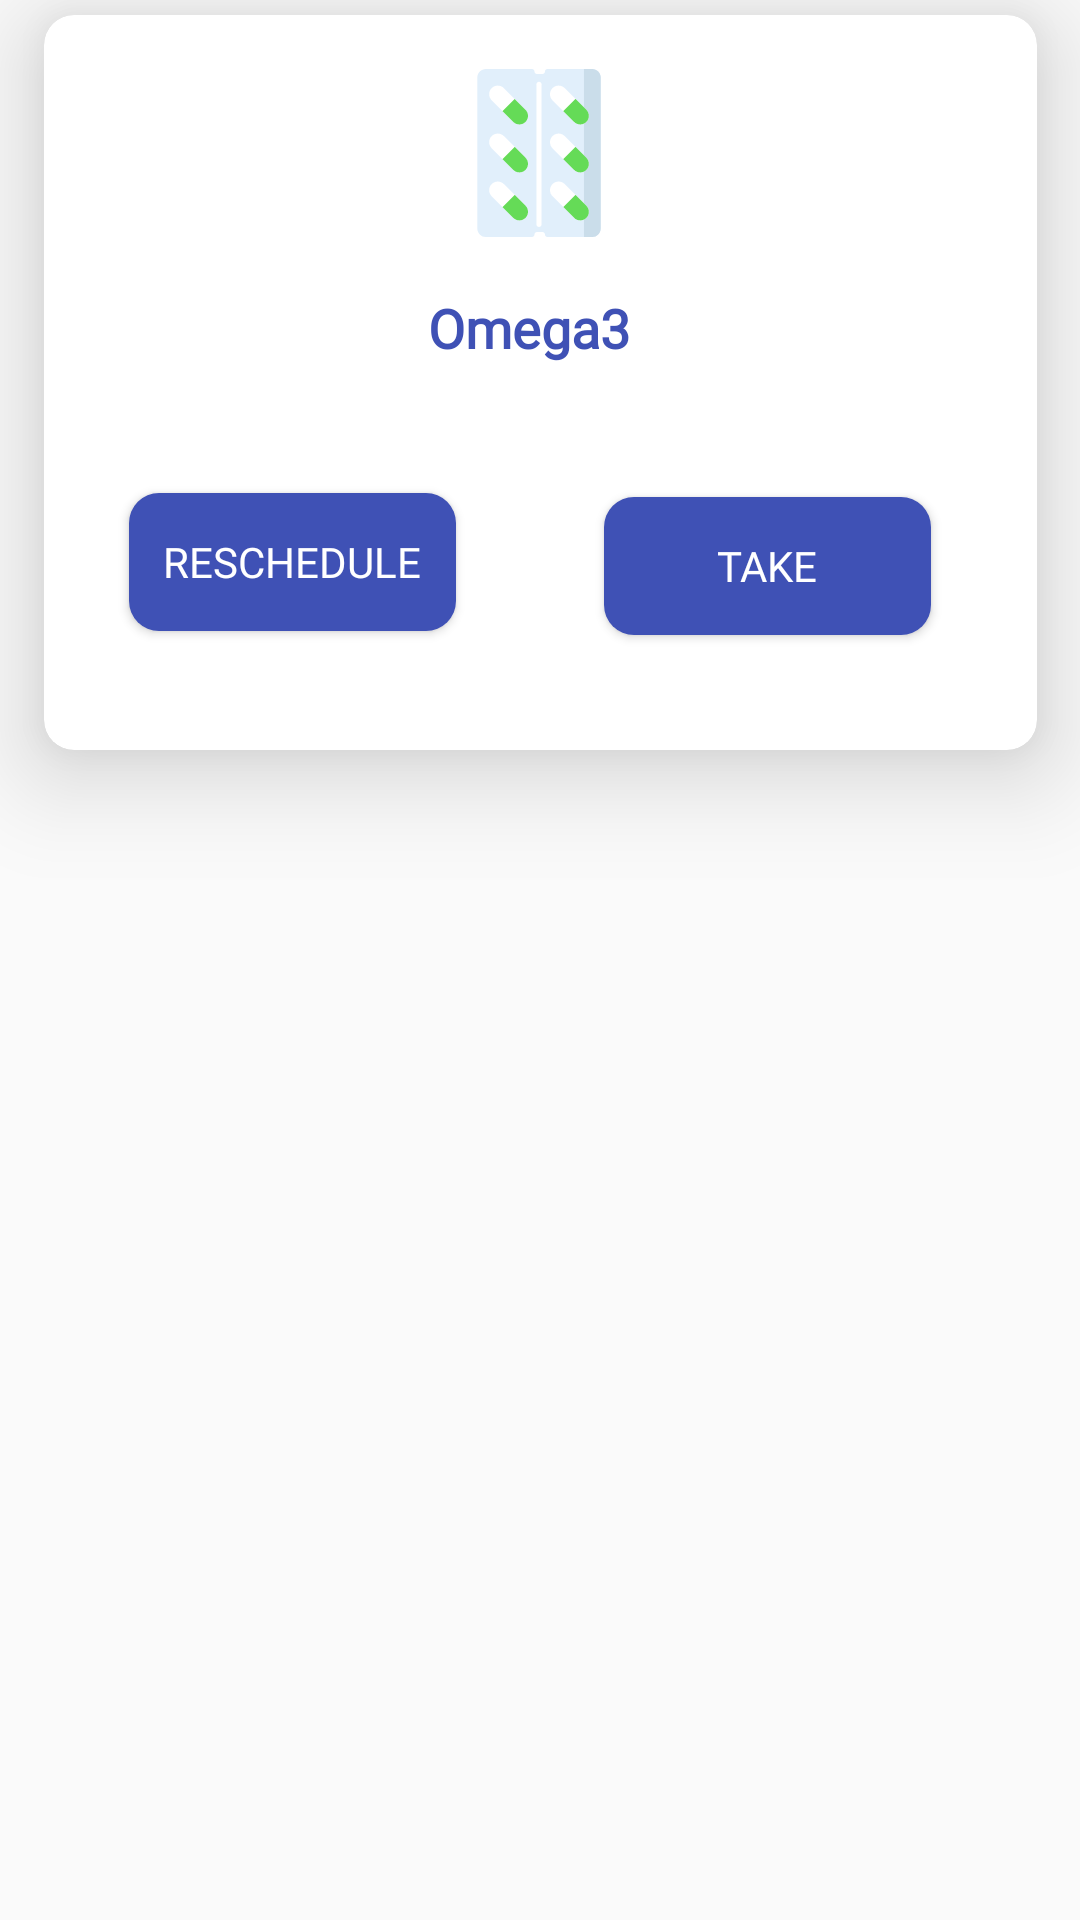

Screen size 1080px×1920px. Icon name, then its box in pixels as detection(x1, y1, x2, y2):
medicine: detection(478, 69, 601, 237)
